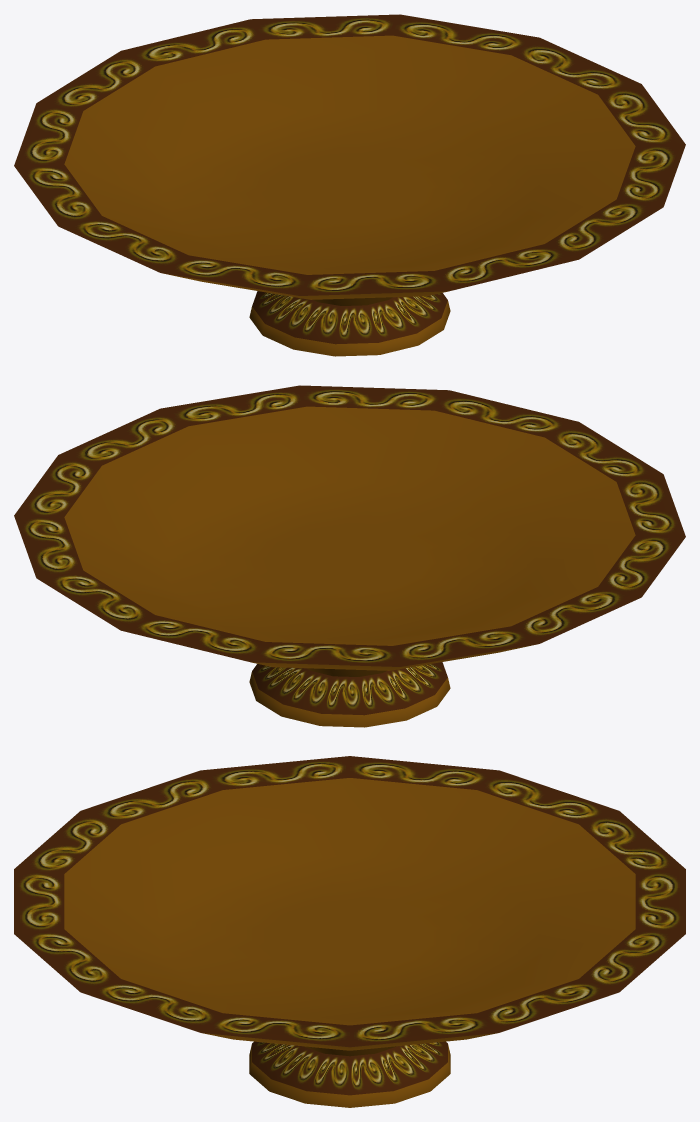
File: INST_SM_TRAY.fbx
The picture shows the model from 3 angles, top to bottom: view 1: azimuth 30°, elevation 25°; view 2: azimuth 150°, elevation 25°; view 3: azimuth 270°, elevation 25°; orthographic projection. The views are drawn at different scales.
Visible parts, largest first — view 1: INST_SM_TRAY; view 2: INST_SM_TRAY; view 3: INST_SM_TRAY.
Boxes of the visible parts, x1,y1,x2,y2 form: INST_SM_TRAY: (14, 14, 685, 356); INST_SM_TRAY: (14, 385, 685, 727); INST_SM_TRAY: (14, 756, 685, 1107).
Bounding box in the file's own units: 12536 × 3265 × 12222.
2 materials, 2 textured.
